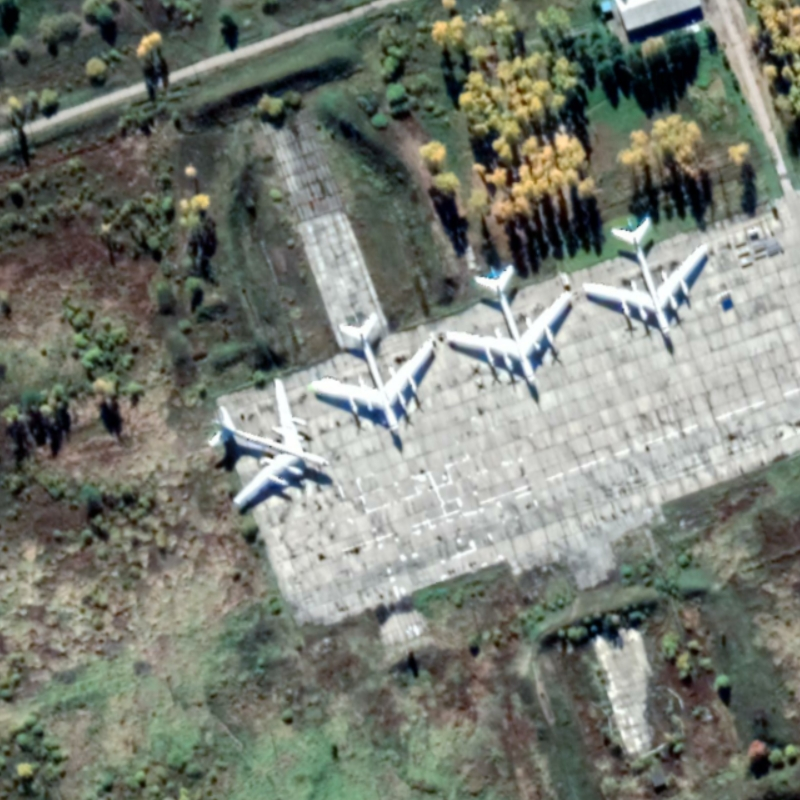A17: (204, 375, 334, 514), (578, 214, 713, 343), (306, 310, 436, 439), (444, 262, 573, 389)
